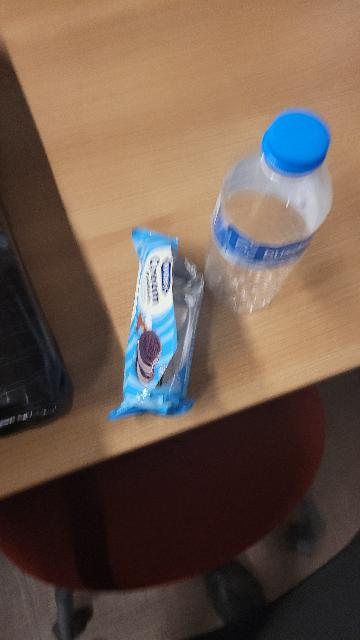Plastik: (207, 113, 333, 328), (112, 224, 208, 425)
